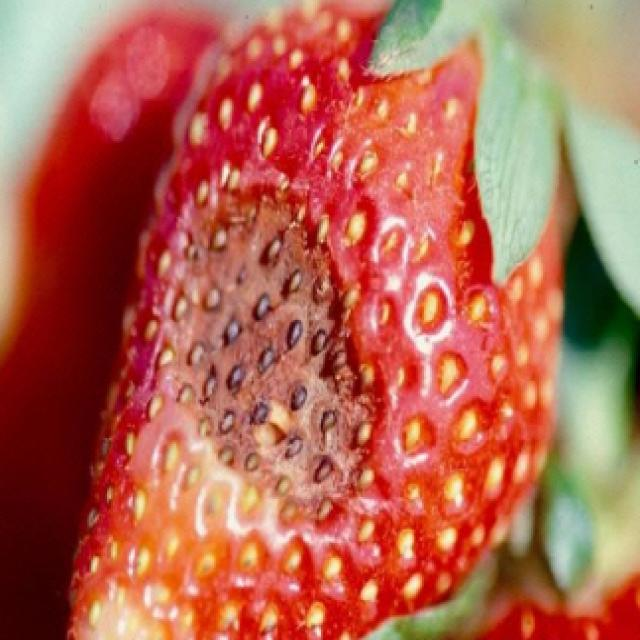Anthracnose Fruit Rot: (144, 184, 402, 536)
